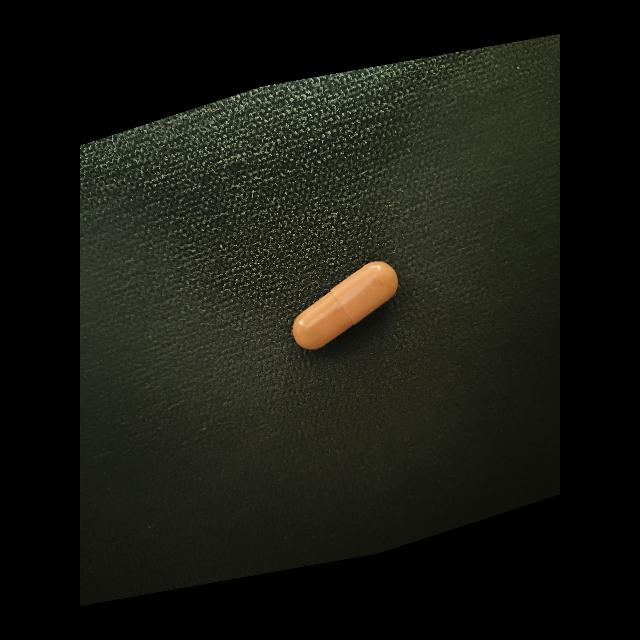Intact Capsule: (292, 261, 398, 349)
